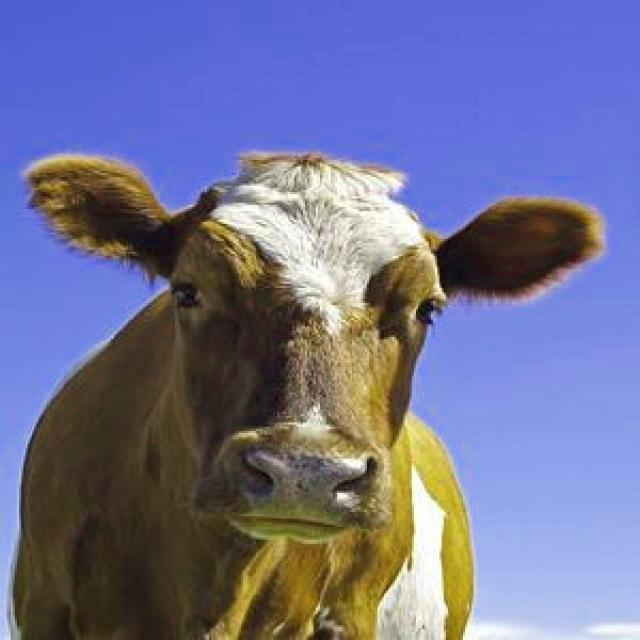cow: (12, 155, 599, 639)
